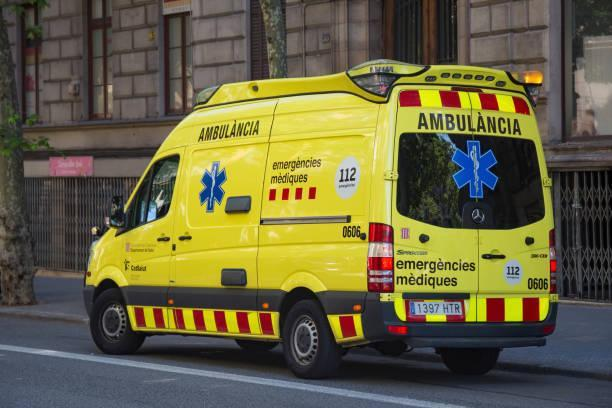Ambulance: (440, 134, 512, 205), (196, 164, 229, 218)
